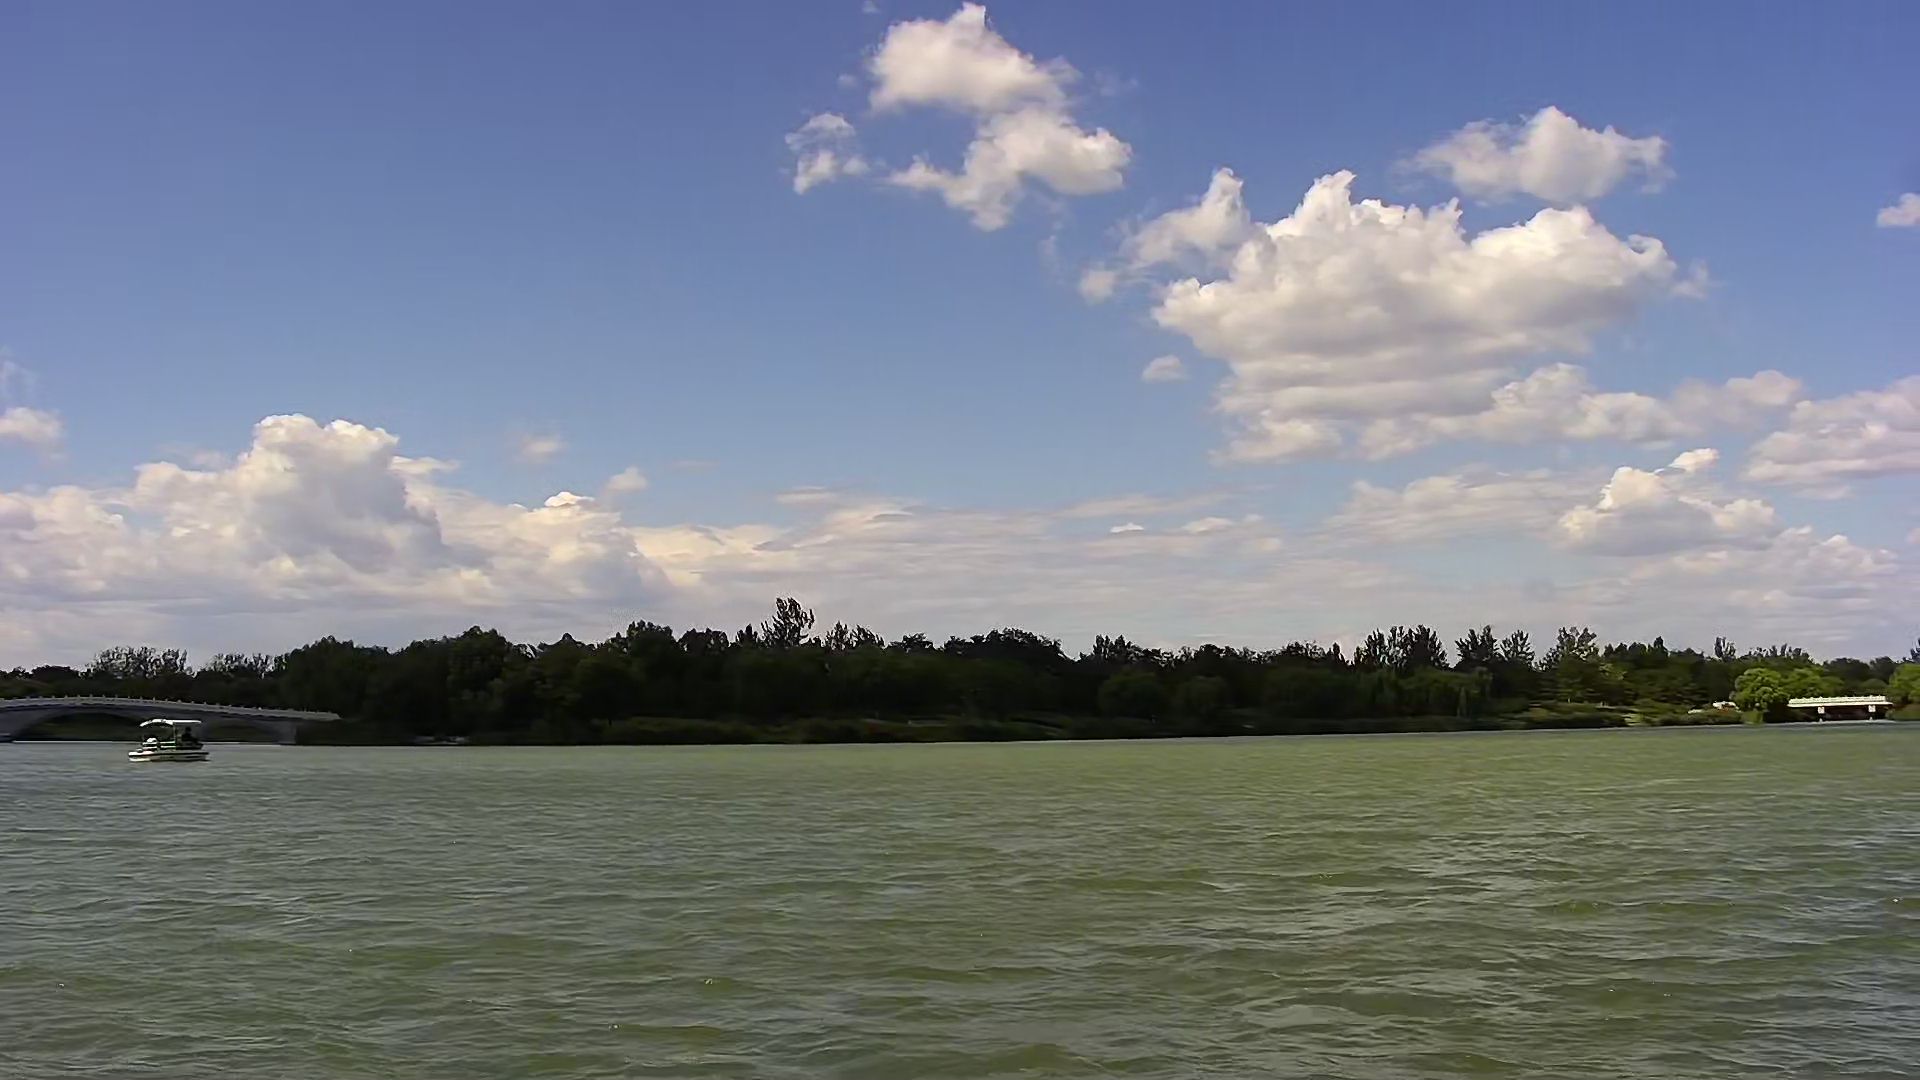boat: (125, 713, 210, 767)
bridge: (1, 691, 330, 752), (1787, 691, 1899, 728)
